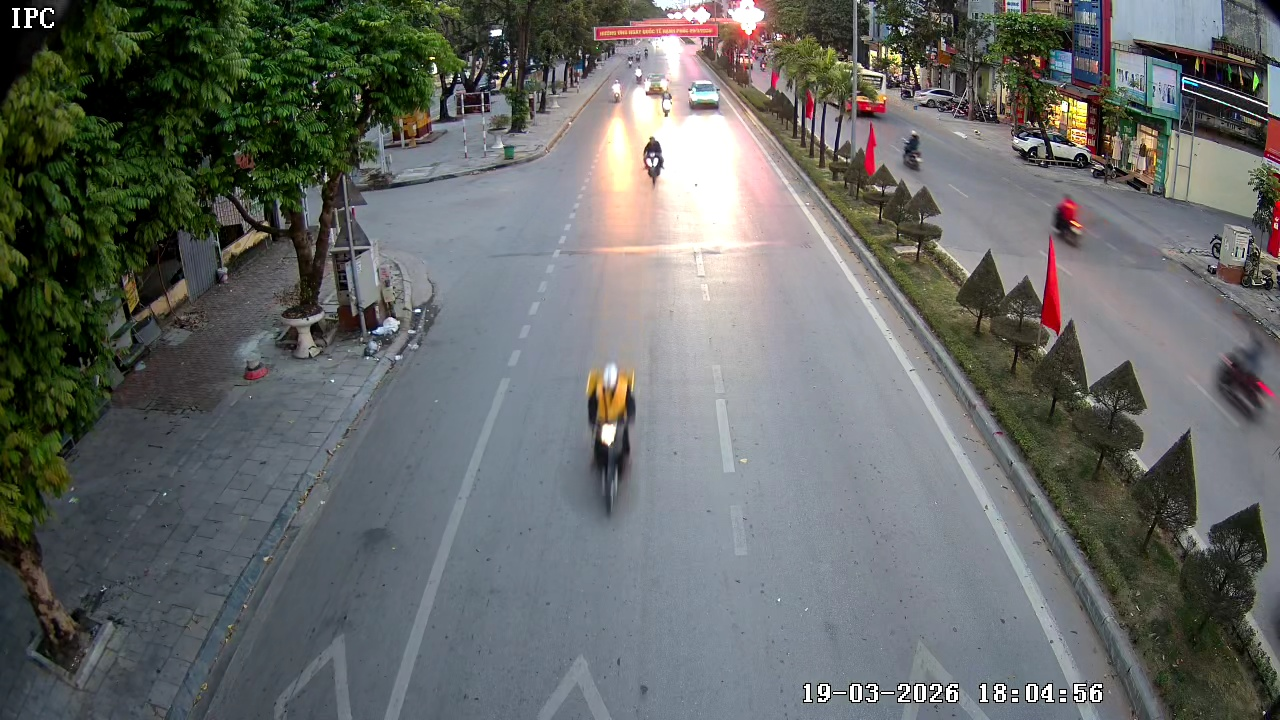car: (685, 79, 722, 114)
motorbike: (574, 353, 646, 520), (639, 136, 669, 191), (610, 78, 625, 103)
